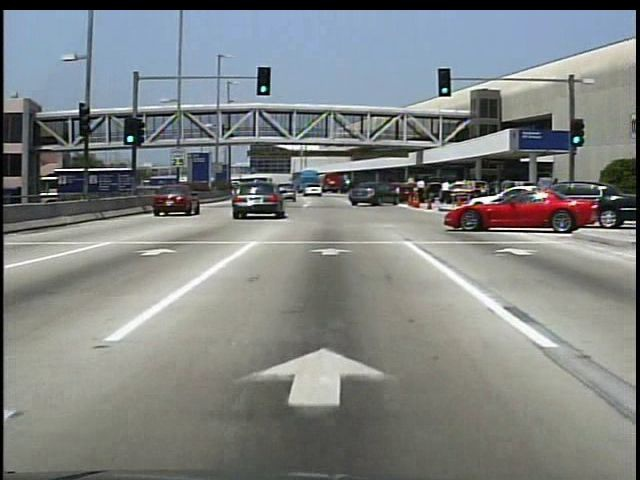person: (414, 176, 430, 210), (439, 182, 455, 208), (220, 125, 228, 141)
